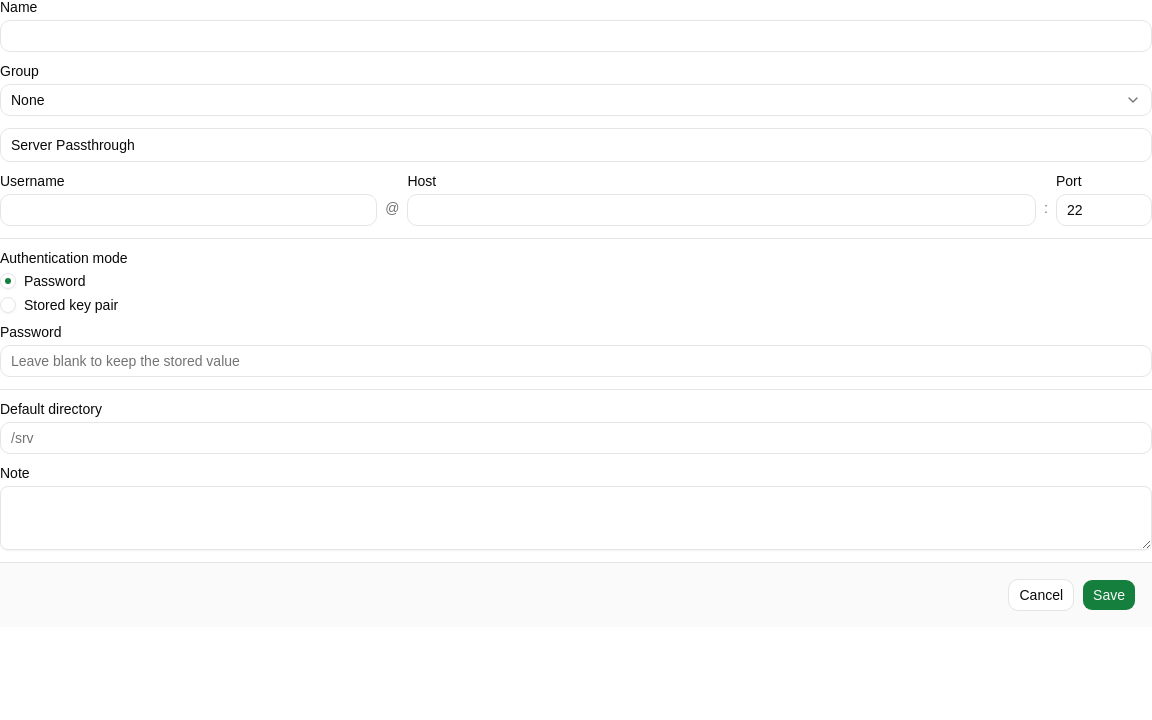
Test: SSHForm › stored-key mode only offers pairs with private keys
The width and height of the screenshot is (1152, 720).
Click the radio button named "Stored key pair" next to "Stored key pair" at [8, 305], box left=0, top=297, right=16, bottom=313
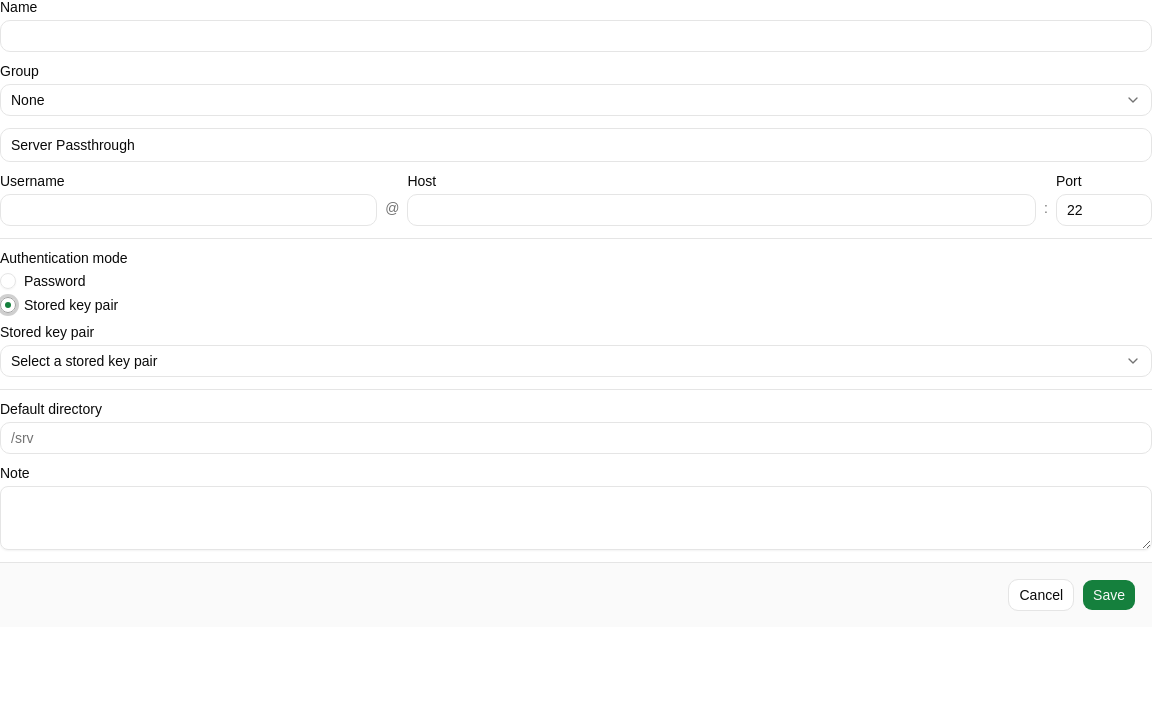
Click the dropdown labelled "stored key pair" at [84, 361], box left=0, top=345, right=1151, bottom=377
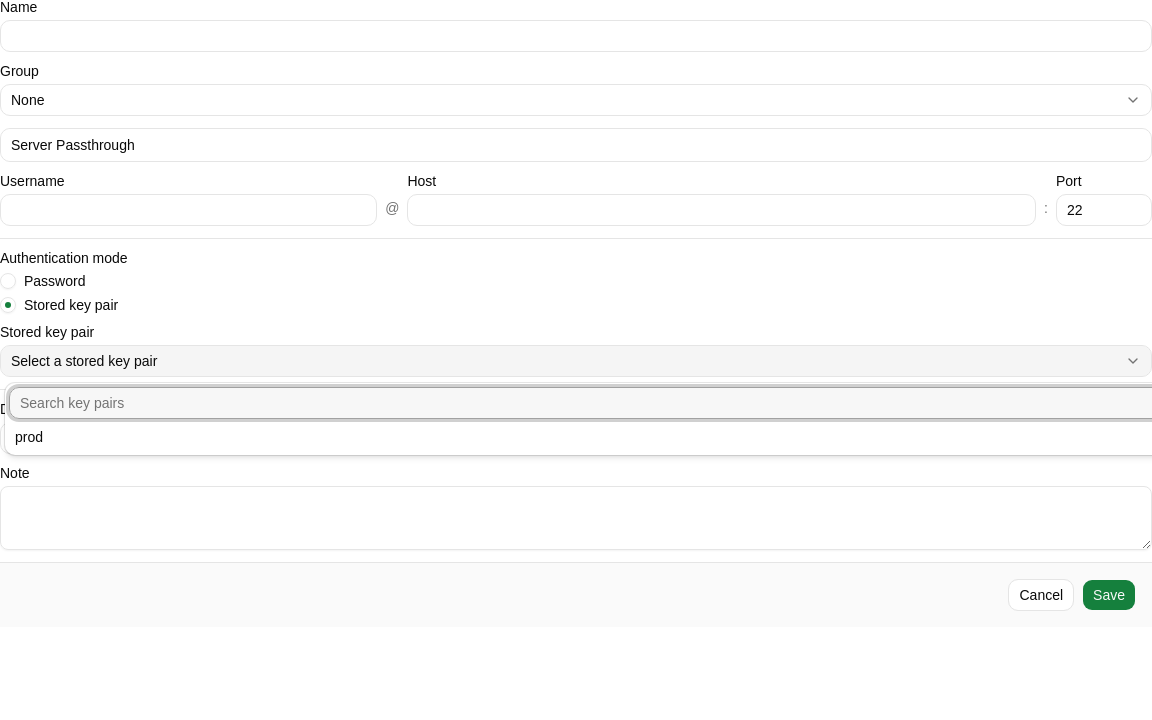
Expected: the option "prod" is shown, left=15, top=429, right=43, bottom=445
